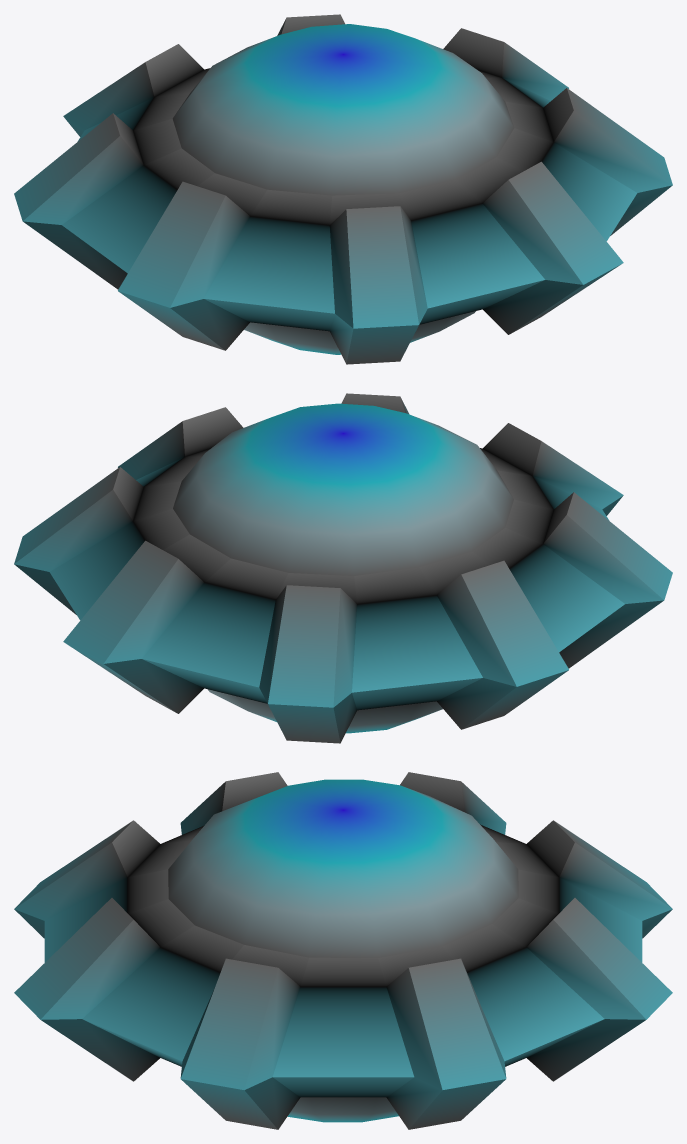
Rendered from Ship.FBX.
3 views of the same model, one above another, from view 1: azimuth 30°, elevation 25°; view 2: azimuth 150°, elevation 25°; view 3: azimuth 270°, elevation 25° (orthographic). The views are drawn at different scales.
Parts seen in each view (by area): view 1: Ship; view 2: Ship; view 3: Ship.
Boxes of the visible parts, x1,y1,x2,y2 form: Ship: (14,14,672,364); Ship: (14,393,672,743); Ship: (14,772,672,1129).
Bounding box in the file's own units: 36.83 × 17.38 × 36.83.
